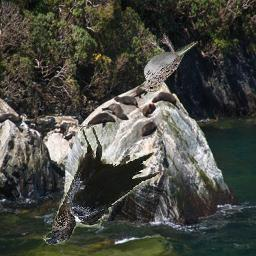Crow: (44, 125, 161, 246)
Sparrow: (140, 32, 199, 92)
